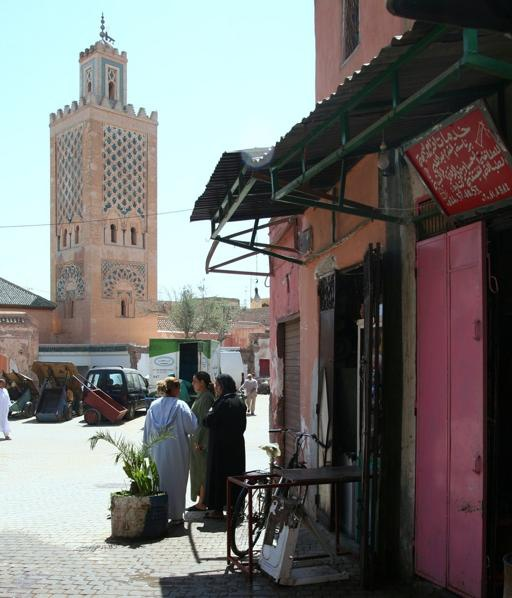non-vehicle: (228, 426, 329, 556), (238, 389, 250, 414)
